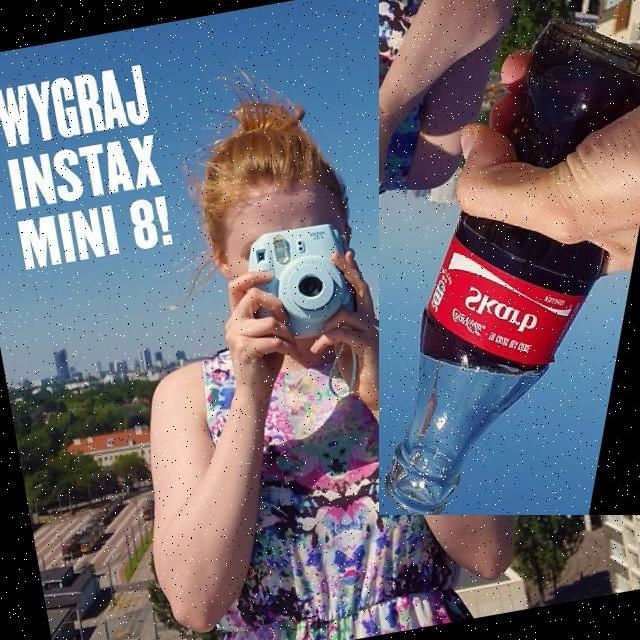coca-cola: (379, 0, 640, 515)
